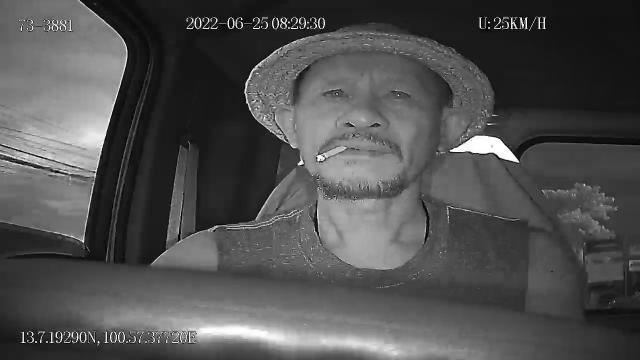SafeDriving: (378, 80, 418, 106), (316, 78, 354, 104)
Smoking: (316, 145, 348, 161)
